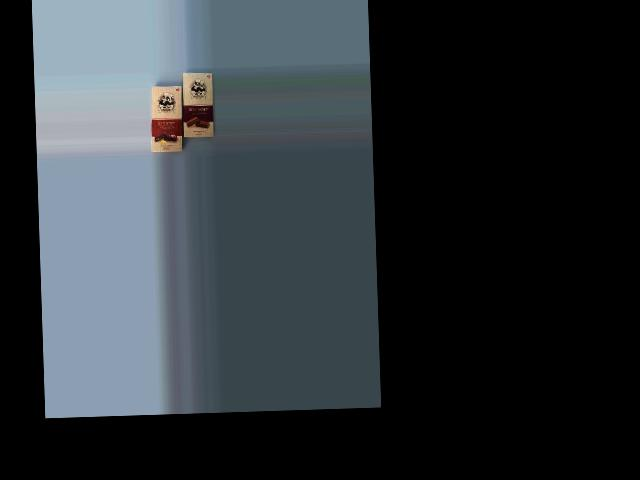chocolate: (148, 82, 190, 154)
